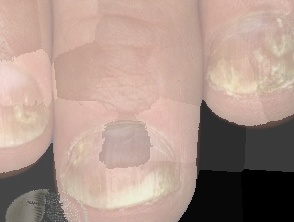Nail_psoriasis: (54, 110, 197, 219), (206, 11, 294, 95), (0, 31, 51, 150)
